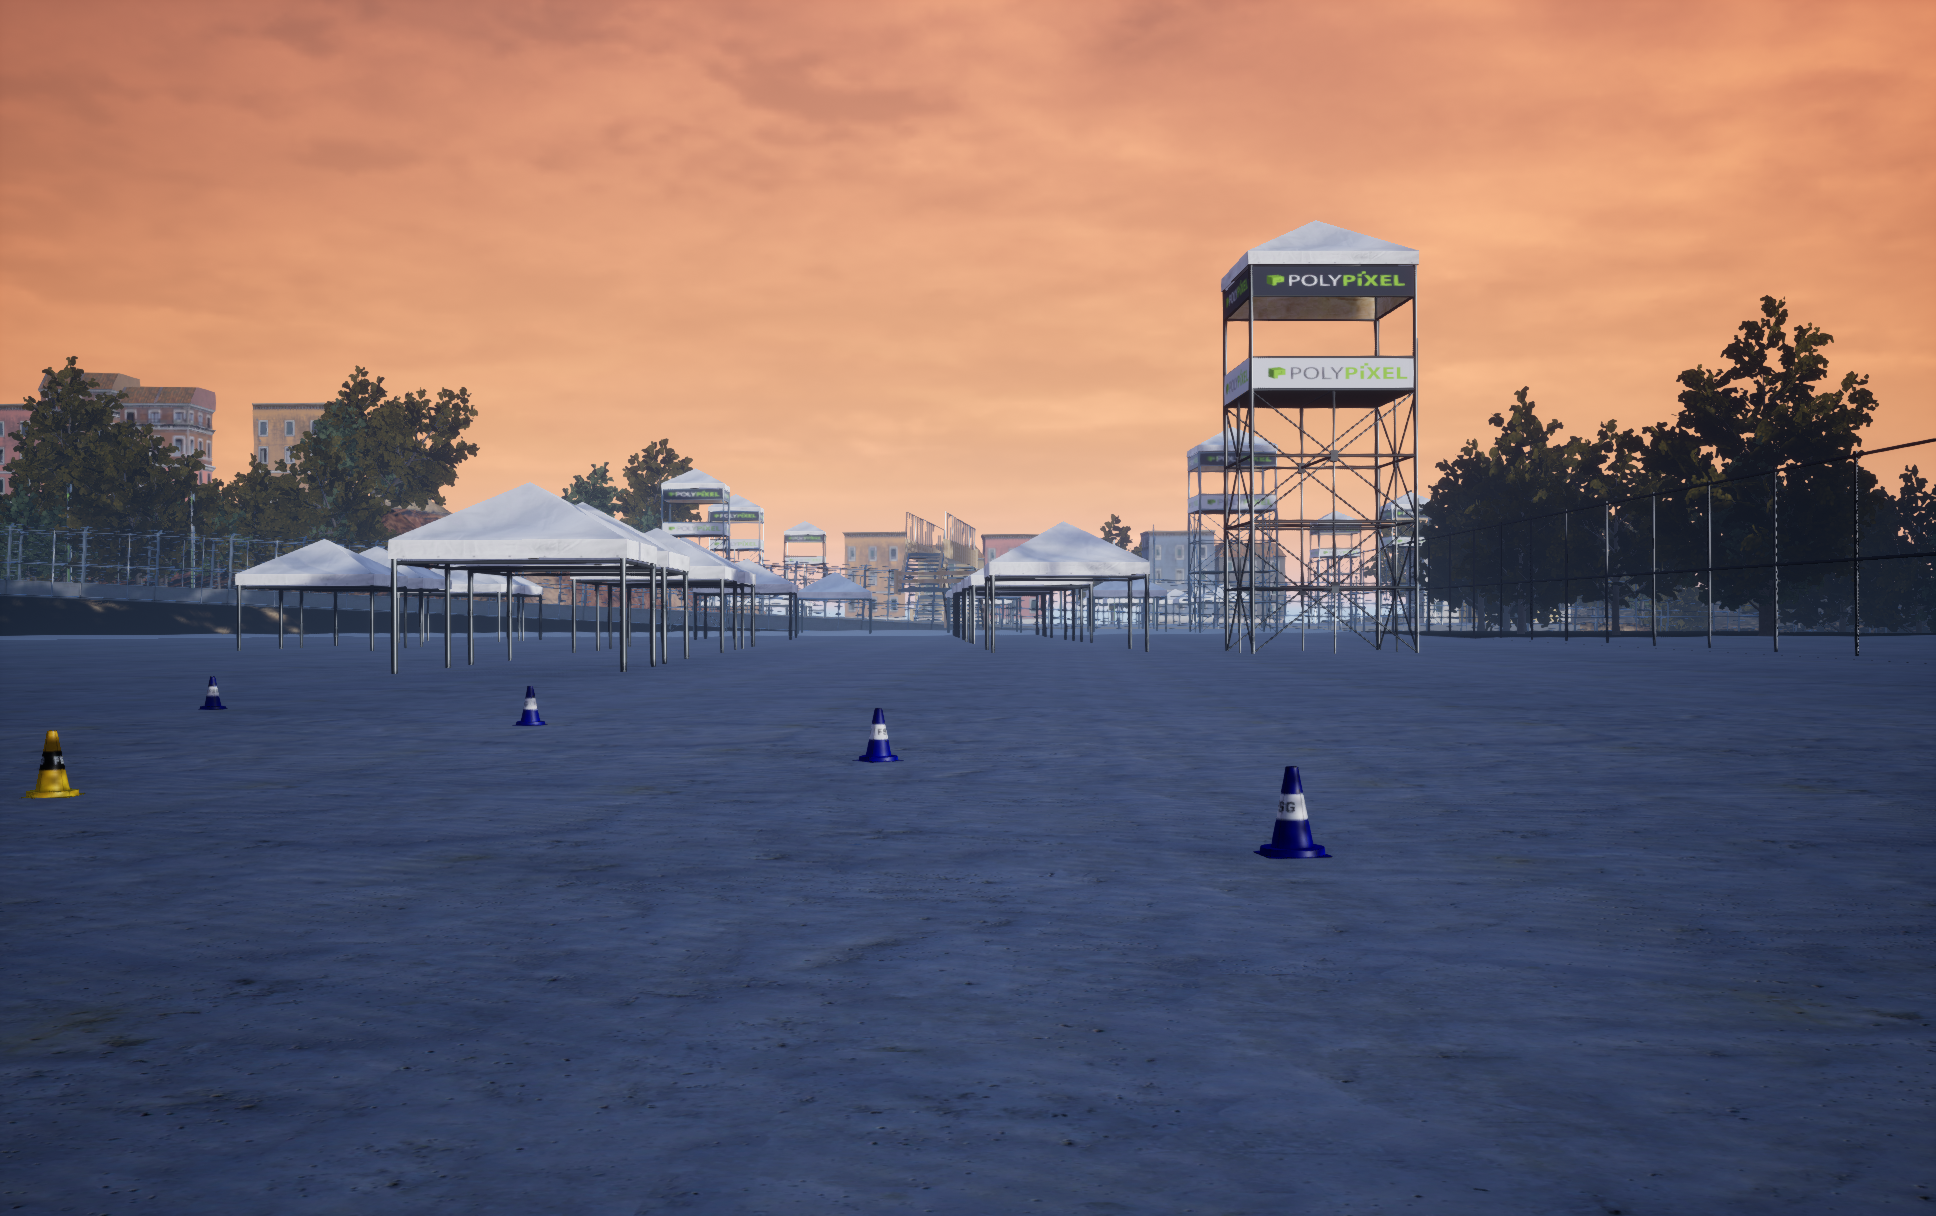blue: (20, 730, 85, 799)
yellow: (1252, 766, 1332, 857), (852, 707, 904, 762), (511, 686, 546, 726), (198, 677, 227, 709)
